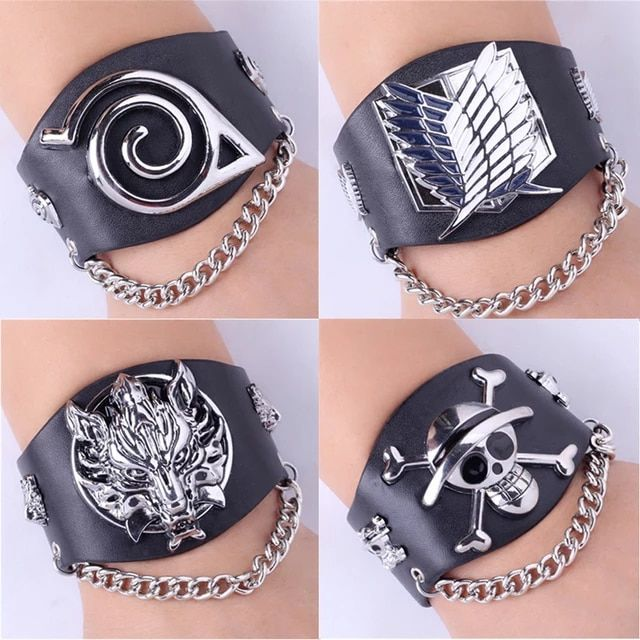cuero: (17, 29, 611, 607)
